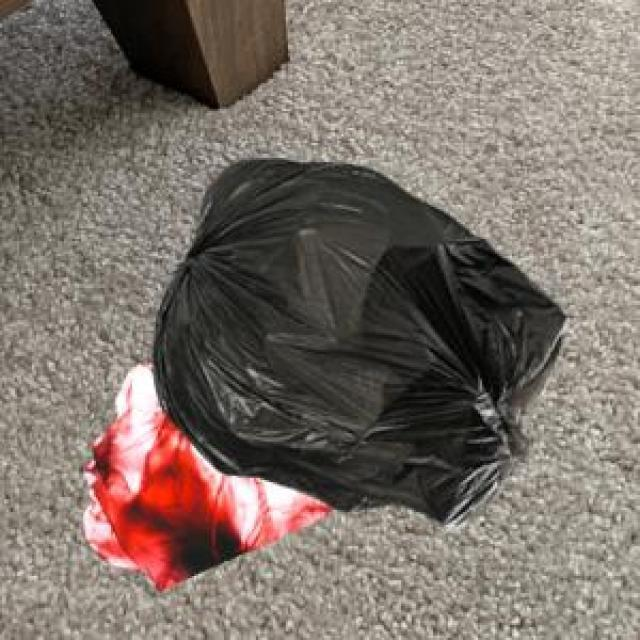miscellaneous trash: (147, 156, 563, 525)
